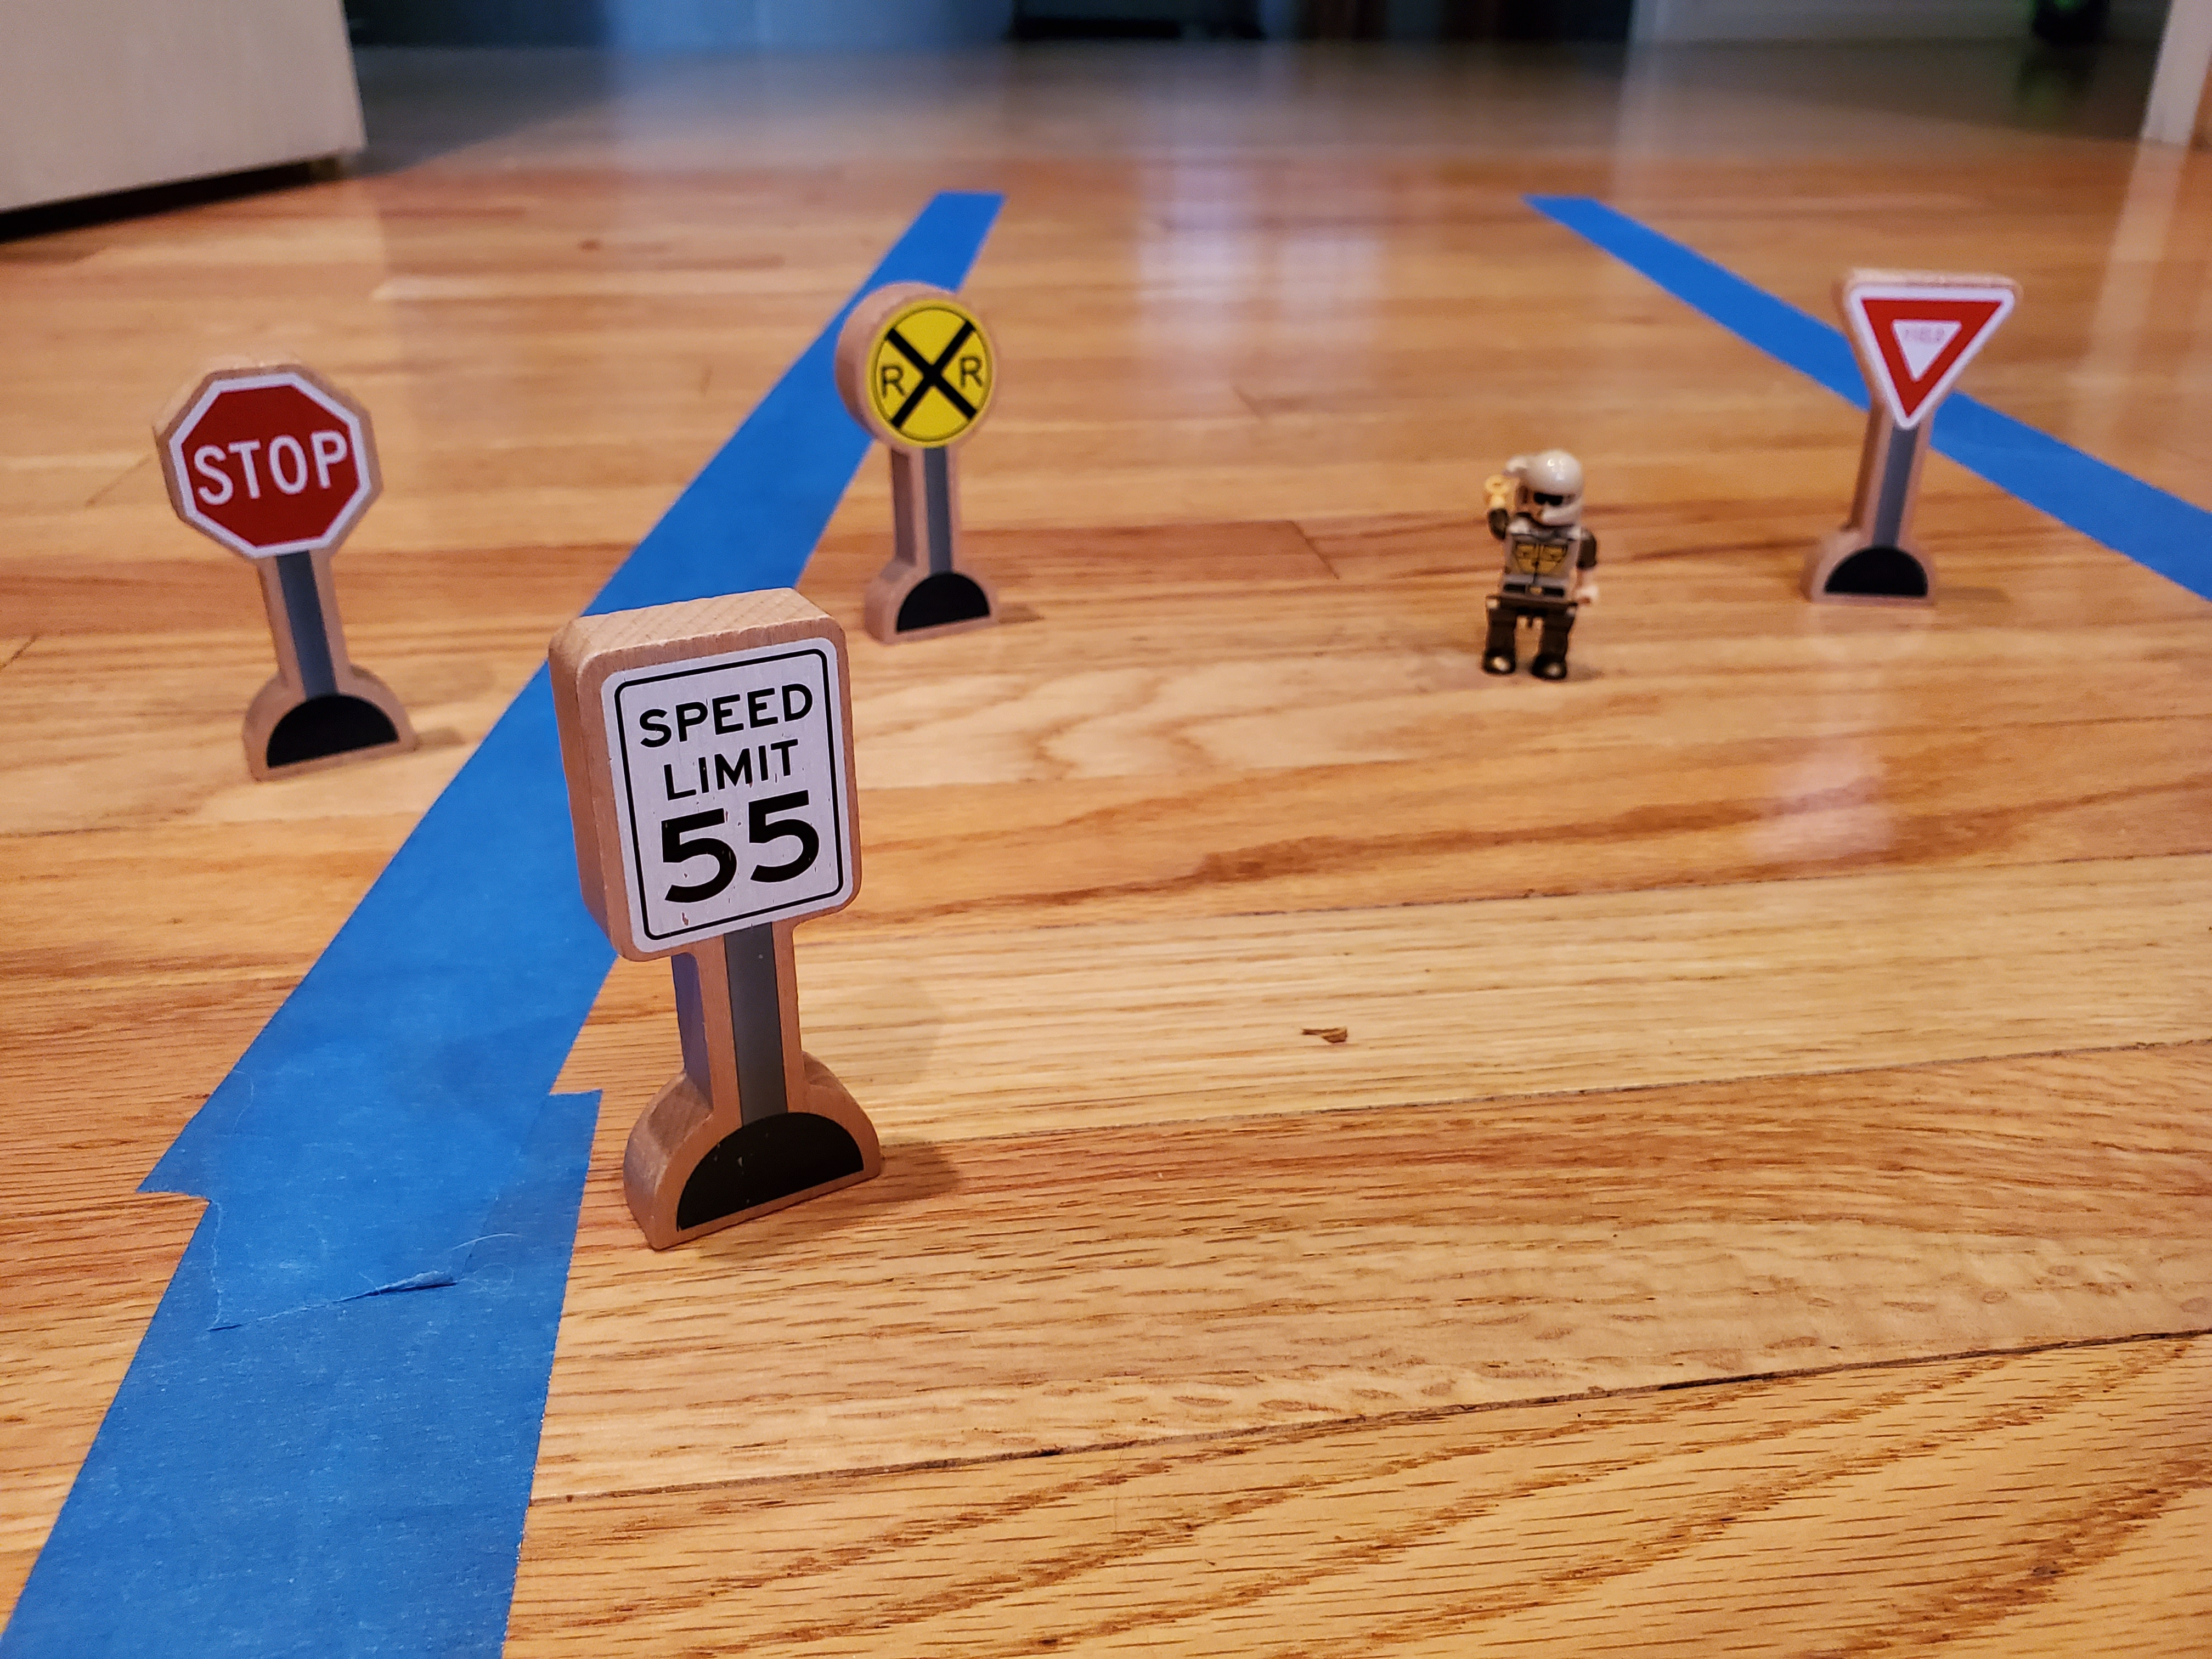Railroad Crossing: (835, 293, 1013, 459)
Speed Limit 55: (556, 620, 868, 942)
Stop Sign: (157, 358, 392, 555)
Yield Sign: (1835, 262, 2016, 444)
person: (1472, 424, 1607, 713)
